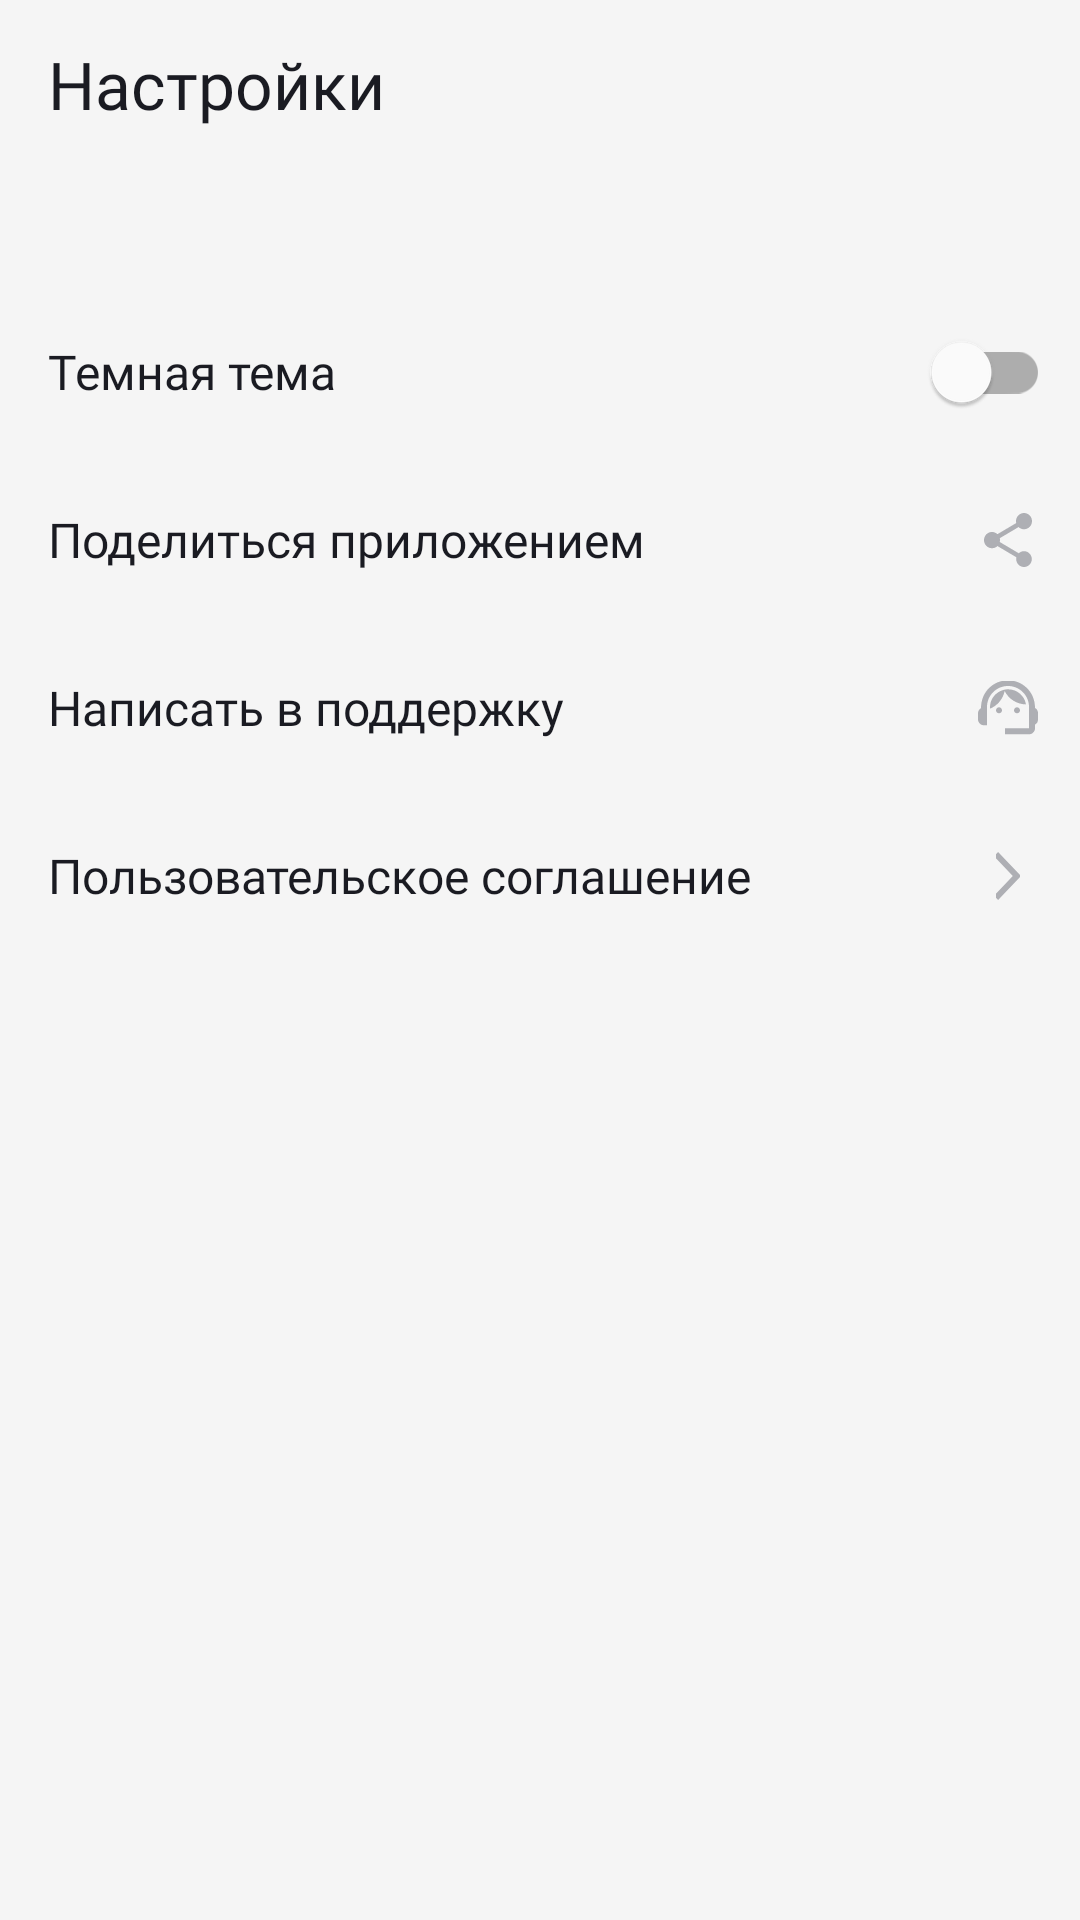

Locate icon controls on the screen. Image size 1080*1920, boxes as (x1, y1, x2, y2).
arrow forward: (996, 852, 1020, 900)
share: (984, 513, 1032, 567)
support: (978, 681, 1038, 734)
